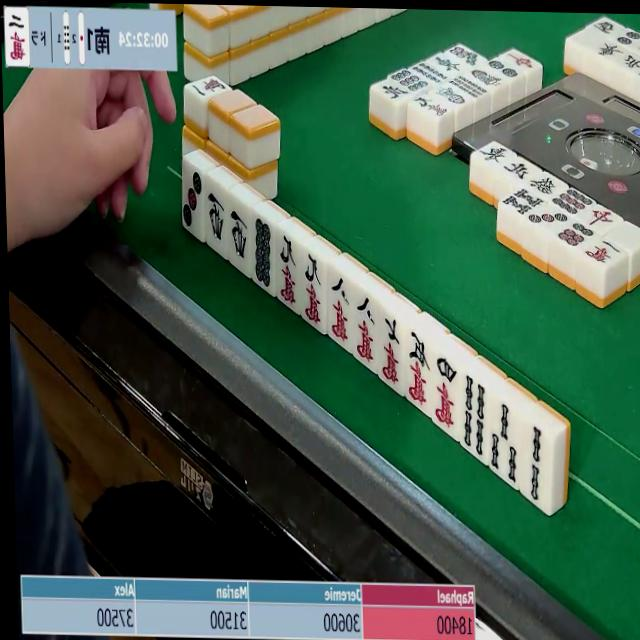m1: (183, 68, 226, 104)
m2: (5, 8, 28, 64)
m4: (427, 354, 466, 436)
m5: (398, 326, 430, 408)
m7: (371, 310, 405, 390)
m8: (347, 291, 383, 368), (323, 271, 356, 347)
m9: (295, 248, 324, 330), (273, 231, 299, 309)
s2: (522, 419, 550, 507)
s3: (483, 398, 523, 486)
s4: (455, 373, 494, 462)
t3: (181, 164, 205, 241), (524, 202, 571, 231)
t8: (249, 217, 273, 294)
t9: (548, 184, 597, 216)
west: (227, 205, 250, 266), (206, 184, 226, 250)
